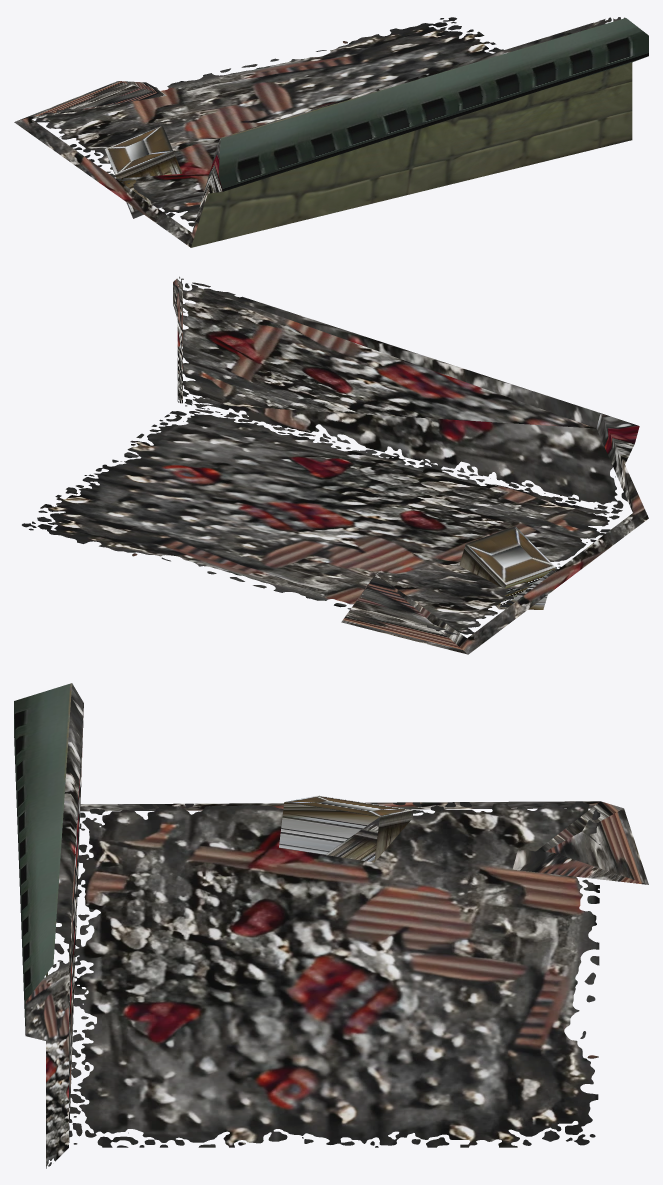
File: l_palacewing_dam_hdtex.glb
3 renders of one model, top to bottom at view 1: azimuth 30°, elevation 25°; view 2: azimuth 150°, elevation 25°; view 3: azimuth 270°, elevation 25°, orthographic. The views are drawn at different scales.
Parts seen in each view (by area): view 1: Palace_wing_dam; view 2: Palace_wing_dam; view 3: Palace_wing_dam.
Part boxes in pixels (x1,y1,x2,y2): Palace_wing_dam: (14,17,648,247); Palace_wing_dam: (22,276,648,654); Palace_wing_dam: (14,683,648,1168).
Bounding box in the file's own units: 31.12 × 10.12 × 22.48.
5 materials, 5 textured.
